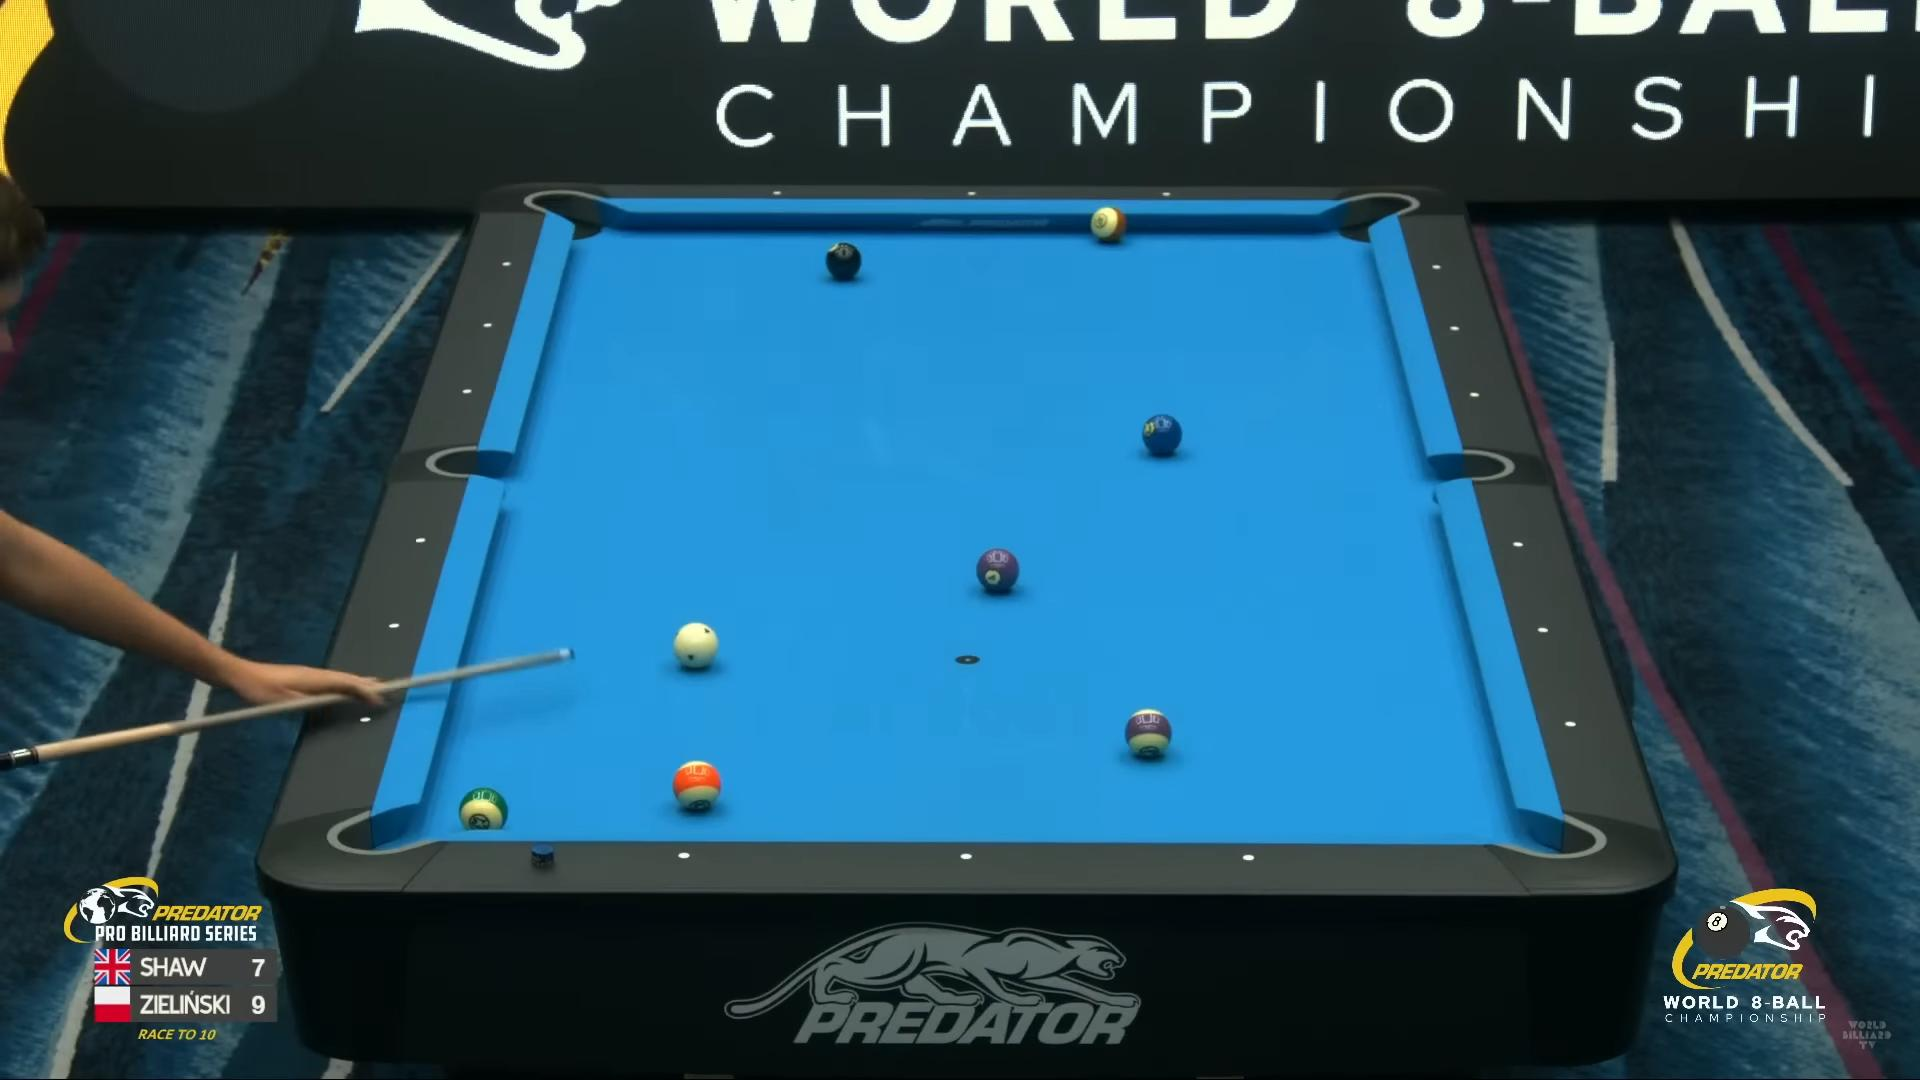Black: (825, 241, 861, 278)
Cue: (674, 622, 720, 669)
Dot: (357, 713, 372, 728), (480, 318, 495, 332), (770, 186, 785, 200), (964, 186, 978, 200), (1159, 187, 1174, 202), (1428, 260, 1443, 274), (1510, 537, 1524, 551), (1563, 716, 1577, 731), (957, 849, 972, 864), (414, 533, 427, 547), (462, 384, 475, 398), (1536, 622, 1549, 637), (1241, 851, 1254, 865), (675, 849, 690, 862), (388, 618, 401, 632), (500, 257, 513, 270), (1448, 322, 1461, 335), (1468, 388, 1481, 401)
Solid: (976, 547, 1021, 592), (1142, 414, 1183, 454)
Striped: (674, 760, 723, 810), (1125, 708, 1174, 756), (459, 789, 509, 831), (1091, 207, 1127, 241)
